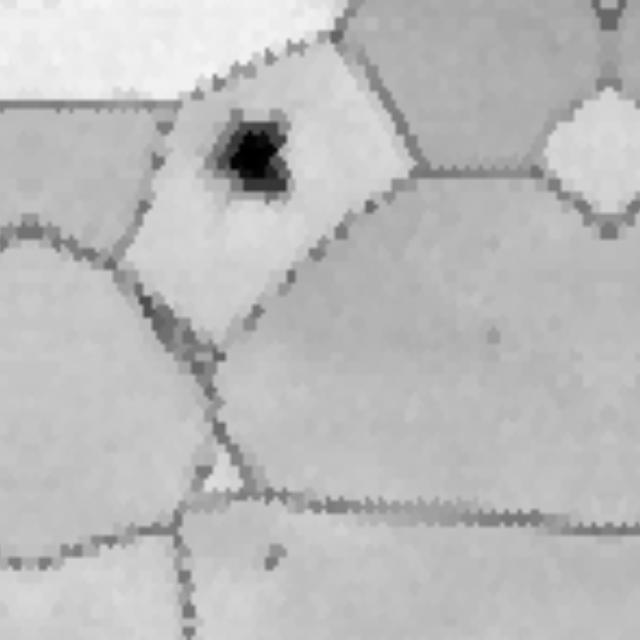good_void: (191, 102, 301, 221), (256, 538, 294, 581), (478, 323, 511, 352)
